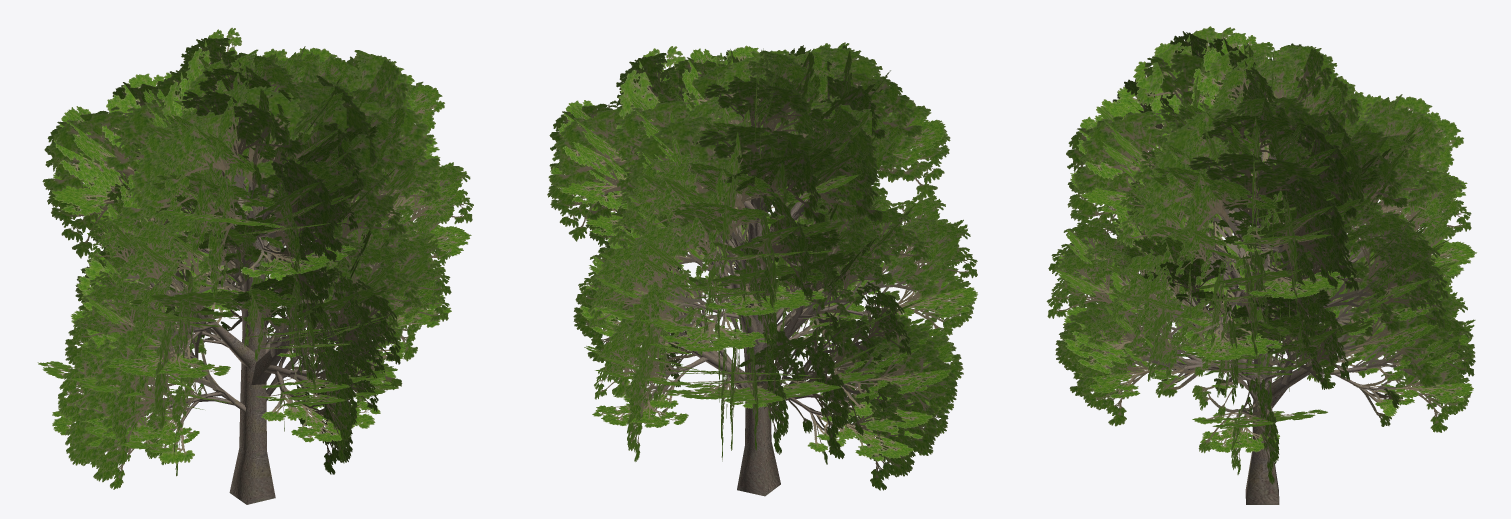
File: CastaneaDentata.glb
The picture shows the model from 3 angles, left to right: view 1: azimuth 30°, elevation 25°; view 2: azimuth 150°, elevation 25°; view 3: azimuth 270°, elevation 25°; orthographic projection. The views are drawn at different scales.
Parts seen in each view (by area): view 1: American_Chestnut__Realistic_LOD3; view 2: American_Chestnut__Realistic_LOD3; view 3: American_Chestnut__Realistic_LOD3.
Boxes of the visible parts, <box> form: American_Chestnut__Realistic_LOD3: <box>37,27,473,504</box>; American_Chestnut__Realistic_LOD3: <box>547,42,977,496</box>; American_Chestnut__Realistic_LOD3: <box>1046,26,1476,504</box>.
Size of the model in its own units: 22.17 by 22.84 by 20.94.
1 material, 1 textured.
